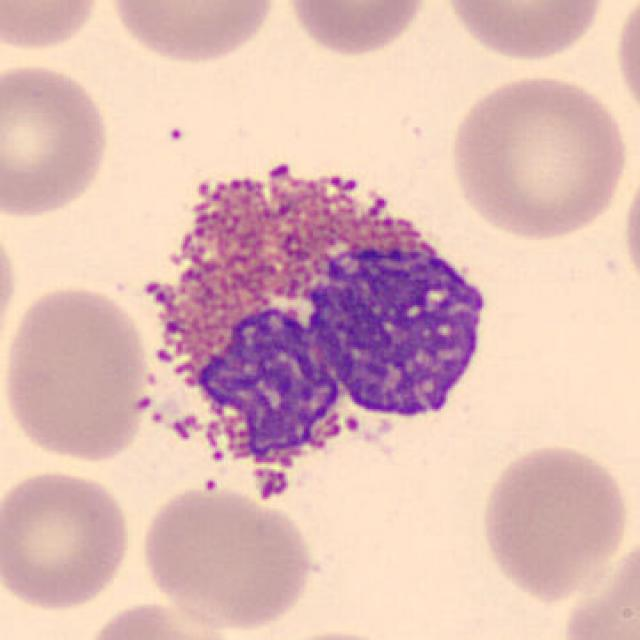Eosinophil: (113, 141, 513, 500)
RBC: (441, 69, 633, 243), (0, 278, 155, 466), (135, 481, 320, 633), (473, 437, 633, 603), (0, 464, 137, 614), (0, 58, 114, 222), (101, 0, 281, 67), (439, 0, 610, 65), (554, 530, 640, 640), (279, 0, 432, 60), (77, 596, 246, 640), (0, 0, 105, 55), (610, 0, 640, 130), (0, 209, 21, 370), (618, 149, 640, 301), (258, 626, 418, 640)
